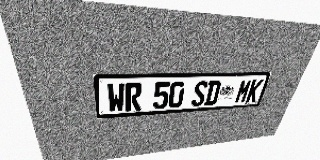0: (168, 81, 185, 108)
5: (153, 82, 170, 109)
D: (204, 80, 222, 106)
K: (245, 79, 264, 103)
M: (234, 80, 253, 103)
R: (125, 82, 142, 111)
S: (191, 81, 209, 107)
W: (107, 83, 125, 113)
